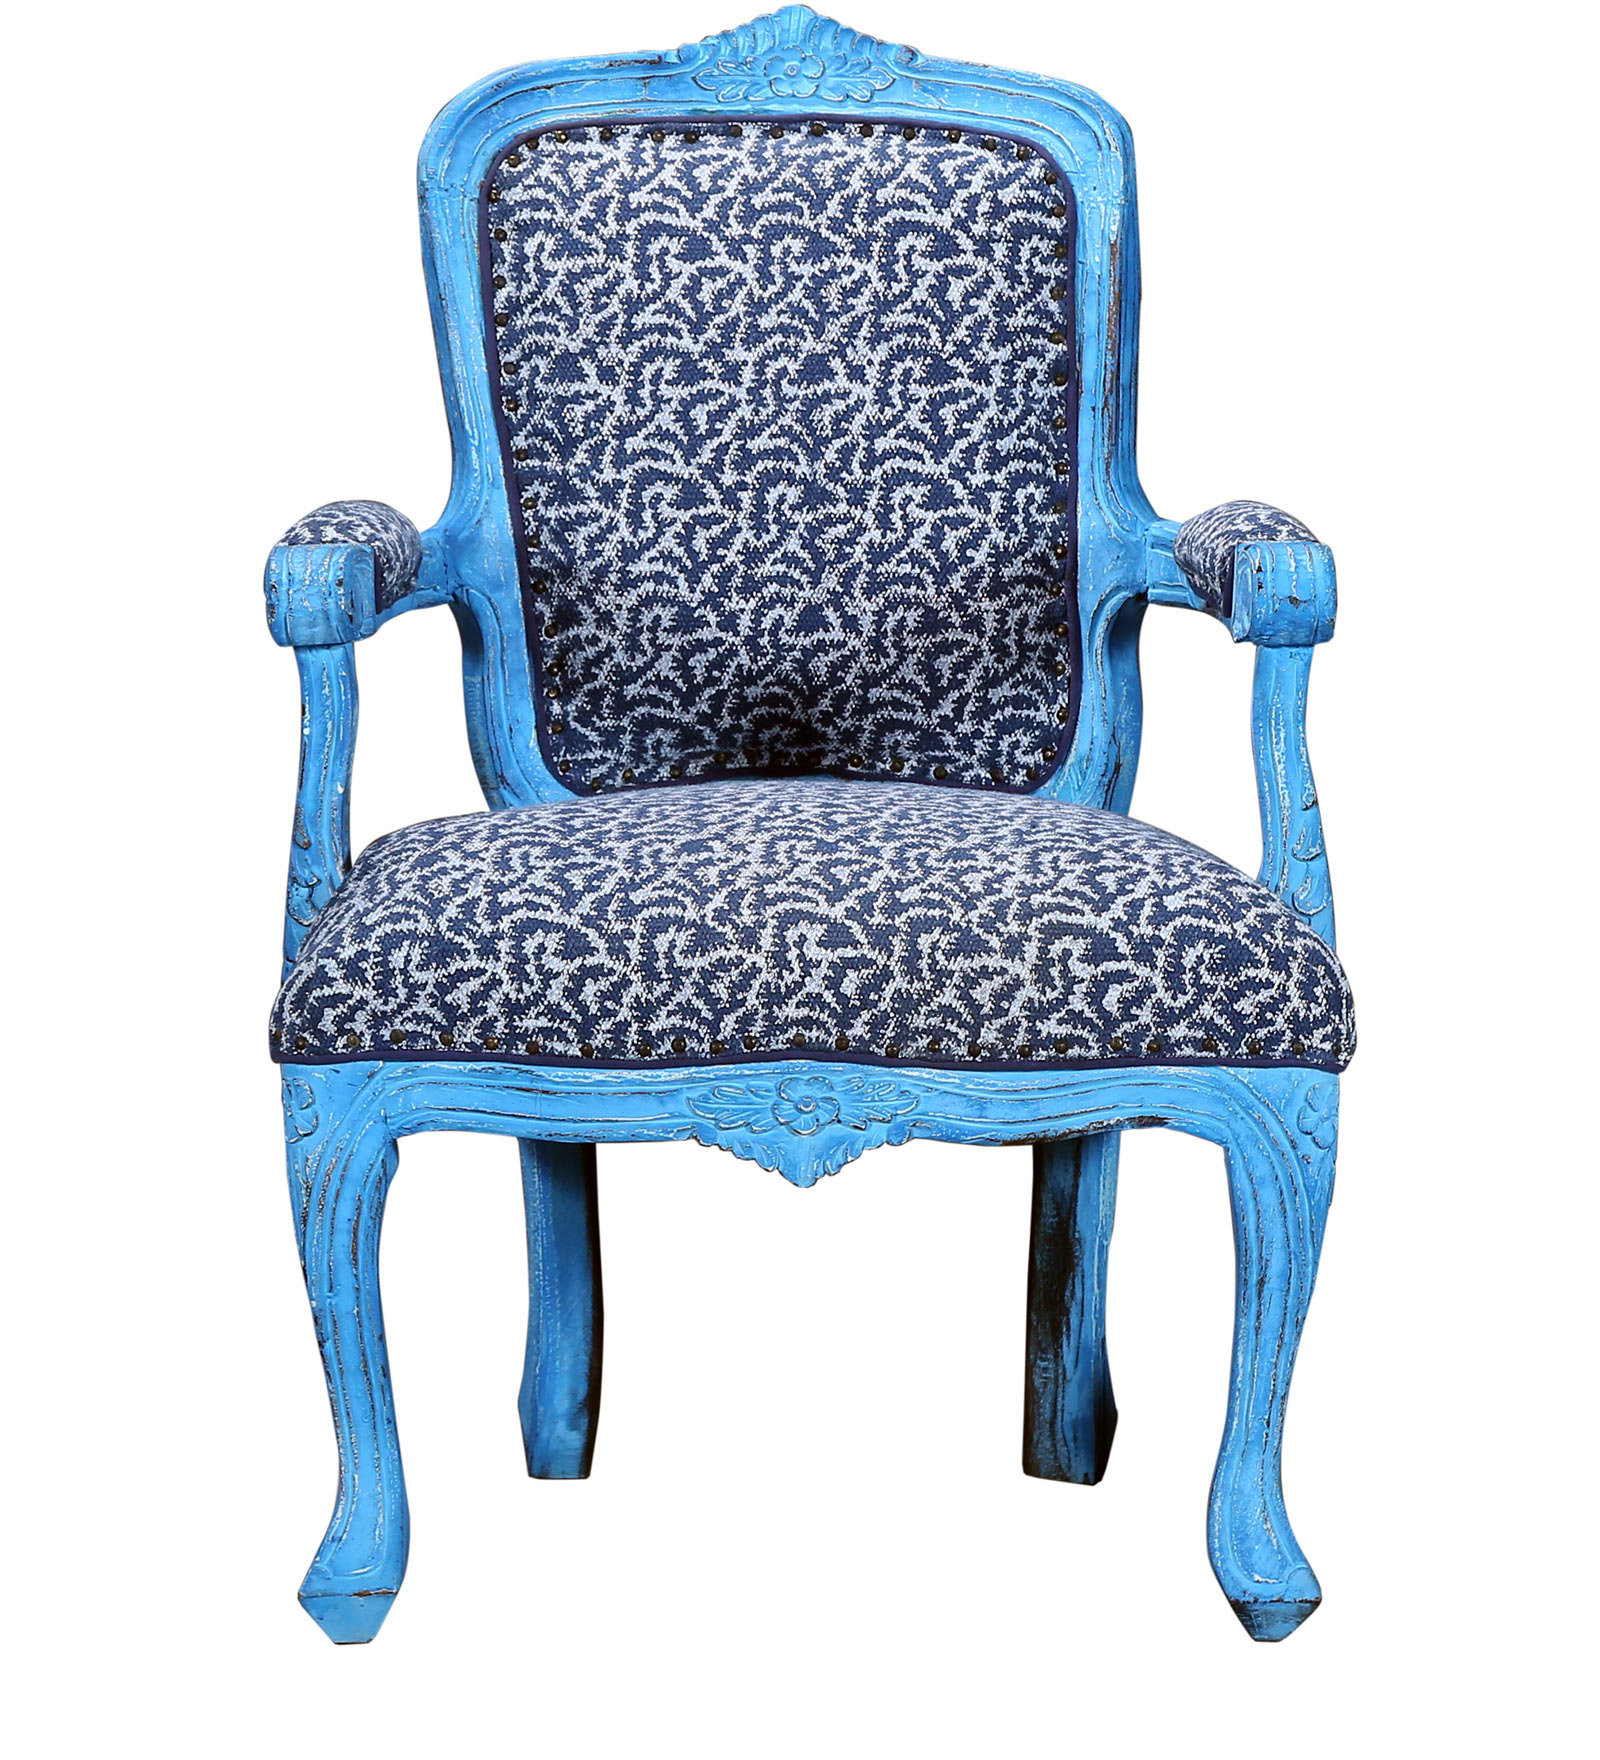Elton Arm Chair in Blue Colour by Bohemiana: (225, 5, 1387, 1699)
